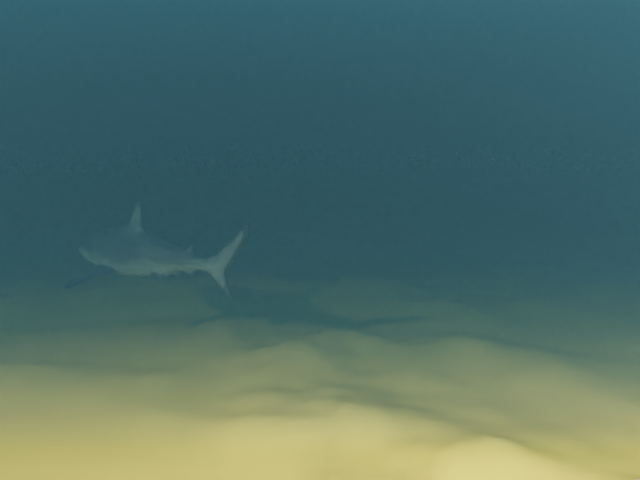Carribean Shark.001: (63, 200, 248, 299)
